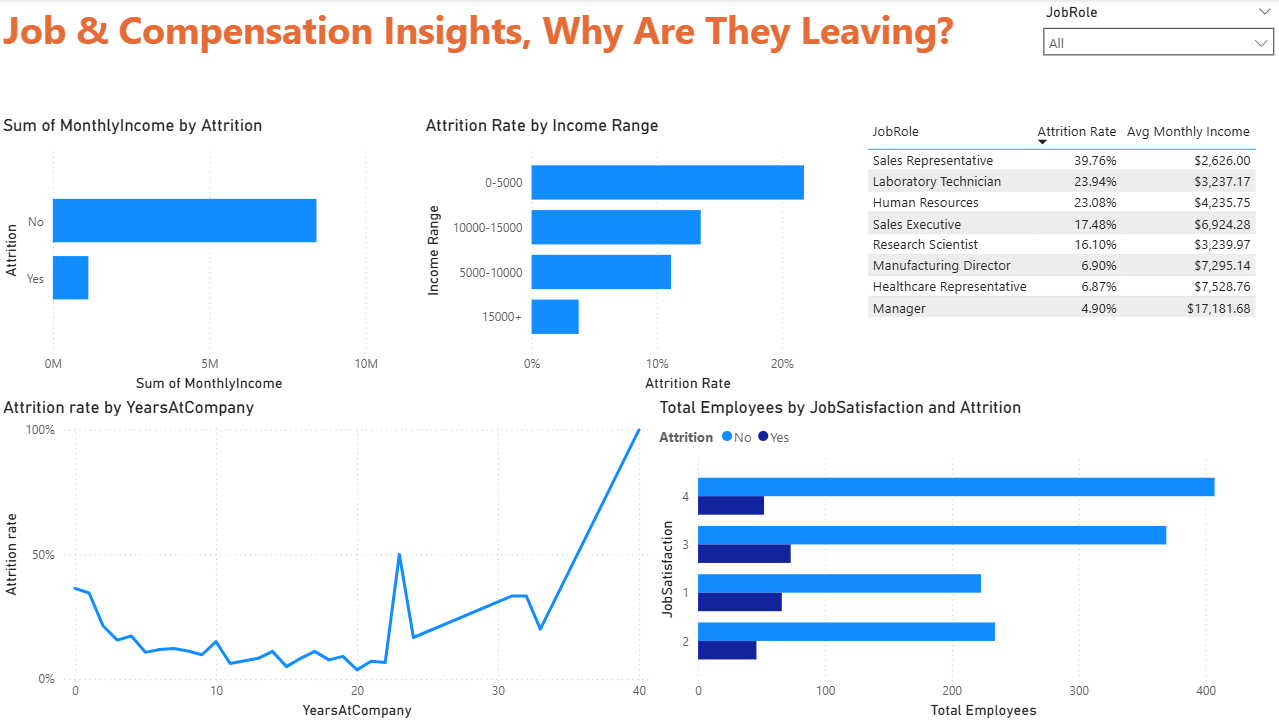

The page's visual inventory and layout, read from the dashboard file:
{"tool":"powerbi","page":{"name":"Compensation & Performance Analysis","canvas":[1280,720],"ordinal":2},"visuals":[{"type":"barChart","fields":{"Category":["HR-Employee-Attrition.Attrition"],"Y":["Sum(HR-Employee-Attrition.MonthlyIncome)"]},"box":[0,115.7,383.1,279.9],"z":0},{"type":"barChart","fields":{"Category":["HR-Employee-Attrition.Income Range"],"Y":["HR-Employee-Attrition.Attrition Percentage"]},"box":[420.5,115.7,439.1,279.9],"z":1},{"type":"clusteredBarChart","fields":{"Category":["HR-Employee-Attrition.JobSatisfaction"],"Y":["HR-Employee-Attrition.Total Employees"],"Series":["HR-Employee-Attrition.Attrition"]},"box":[653.2,395.2,627.1,325.2],"z":2},{"type":"lineChart","fields":{"Category":["HR-Employee-Attrition.YearsAtCompany"],"Y":["HR-Employee-Attrition.Attrition Percentage"]},"box":[0,395.2,653.2,325.2],"z":3},{"type":"tableEx","fields":{"Values":["HR-Employee-Attrition.JobRole","HR-Employee-Attrition.Attrition Percentage","HR-Employee-Attrition.Avg Monthly Income"]},"box":[859.6,115.7,420.5,253.8],"z":4},{"type":"slicer","fields":{"Values":["HR-Employee-Attrition.JobRole"]},"box":[1030.5,0,249.7,83.7],"z":5},{"type":"textbox","box":[0,0,956.4,115.3],"z":6}]}

Visuals, with their boxes in screenshot pixels (x1, y1, x2, y2), scaled from the page's 1280x720 canvas onto the 1279x722 screenshot:
barChart - HR-Employee-Attrition.Attrition x Sum(HR-Employee-Attrition.MonthlyIncome): 0, 116, 383, 397
barChart - HR-Employee-Attrition.Income Range x HR-Employee-Attrition.Attrition Percentage: 420, 116, 859, 397
clusteredBarChart - HR-Employee-Attrition.JobSatisfaction x HR-Employee-Attrition.Total Employees: 653, 396, 1278, 721
lineChart - HR-Employee-Attrition.YearsAtCompany x HR-Employee-Attrition.Attrition Percentage: 0, 396, 653, 721
tableEx - HR-Employee-Attrition.JobRole x HR-Employee-Attrition.Attrition Percentage: 859, 116, 1278, 371
slicer - HR-Employee-Attrition.JobRole: 1030, 0, 1278, 84
textbox: 0, 0, 956, 116
